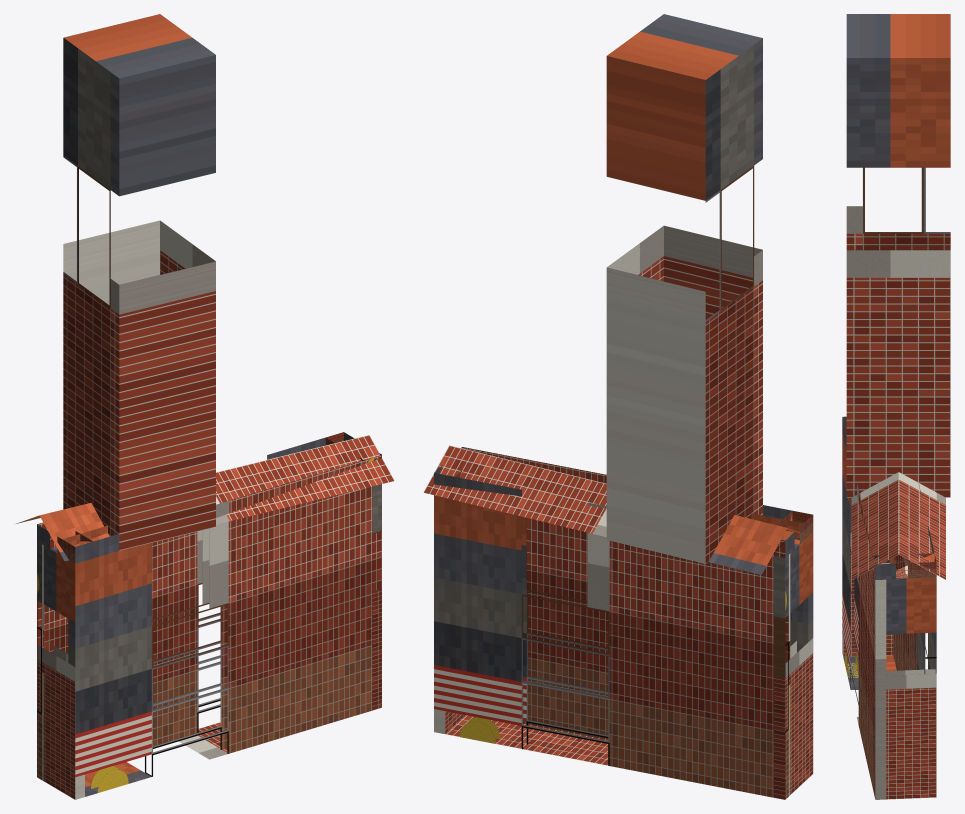
3 renders of one model, left to right at view 1: azimuth 30°, elevation 25°; view 2: azimuth 150°, elevation 25°; view 3: azimuth 270°, elevation 25°, orthographic. The views are drawn at different scales.
Parts seen in each view (by area): view 1: 238625192__chimney_0_xb, 238625192__wall_2_xb, 238625192__wall_0_xb, 238625192_roof_-1_xb, 238625192__wall_1_xb, 238625192__cornice_2, 238625192__wall_3_xb, 238625192__base, 238625192__cornice_0; view 2: 238625192__chimney_0_xb, 238625192__wall_0_xb, 238625192__wall_2_xb, 238625192_roof_1_xb, 238625192__wall_1_xb, 238625192__base, 238625192__cornice_2, 238625192__cornice_0; view 3: 238625192__chimney_0_xb, 238625192__wall_3_xb, 238625192__wall_2_xb, 238625192_roof_-1_xb, 238625192_roof_1_xb, 238625192__wall_0_xb, 238625192__cornice_3, 238625192__wall_1_xb, 238625192__cornice_2, 238625192__base.
Boxes of the visible parts, box(x1,y1,x2,y2) form: 238625192__chimney_0_xb: box(63, 14, 215, 550); 238625192__wall_2_xb: box(68, 486, 381, 792); 238625192__wall_0_xb: box(37, 530, 220, 781); 238625192_roof_-1_xb: box(39, 435, 394, 561); 238625192__wall_1_xb: box(37, 541, 84, 799); 238625192__cornice_2: box(62, 455, 381, 563); 238625192__wall_3_xb: box(372, 484, 381, 710); 238625192__base: box(85, 722, 227, 796); 238625192__cornice_0: box(37, 432, 354, 548); 238625192__chimney_0_xb: box(606, 14, 762, 563); 238625192__wall_0_xb: box(434, 495, 790, 799); 238625192__wall_2_xb: box(523, 518, 813, 739); 238625192_roof_1_xb: box(423, 445, 787, 574); 238625192__wall_1_xb: box(774, 532, 813, 799); 238625192__base: box(445, 715, 608, 765); 238625192__cornice_2: box(462, 447, 803, 539); 238625192__cornice_0: box(434, 465, 794, 557); 238625192__chimney_0_xb: box(846, 14, 950, 497); 238625192__wall_3_xb: box(874, 574, 936, 799); 238625192__wall_2_xb: box(842, 434, 886, 799); 238625192_roof_-1_xb: box(851, 472, 898, 579); 238625192_roof_1_xb: box(898, 472, 945, 579); 238625192__wall_0_xb: box(893, 554, 936, 674); 238625192__cornice_3: box(873, 553, 936, 579); 238625192__wall_1_xb: box(842, 533, 893, 656); 238625192__cornice_2: box(842, 416, 895, 579); 238625192__base: box(843, 655, 896, 724).
Size of the model in its own units: 0.5121 by 1.05 by 0.1566.
1 material, 1 textured.
